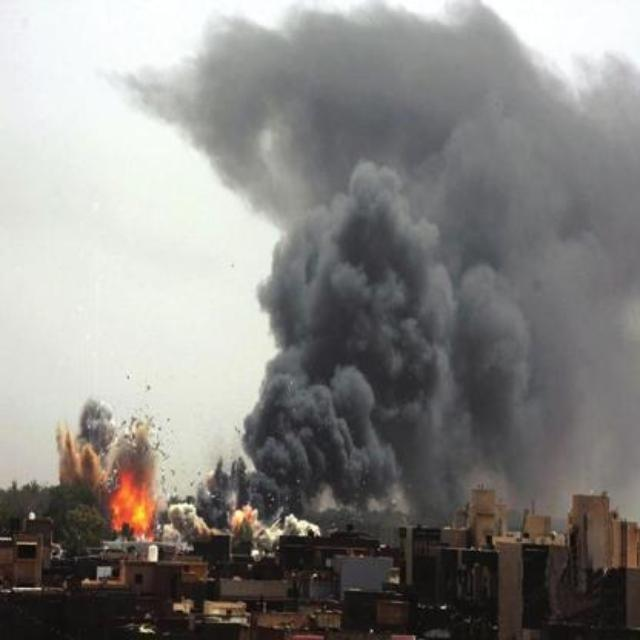Fire: (111, 456, 155, 540)
Smoke: (188, 33, 638, 494)
